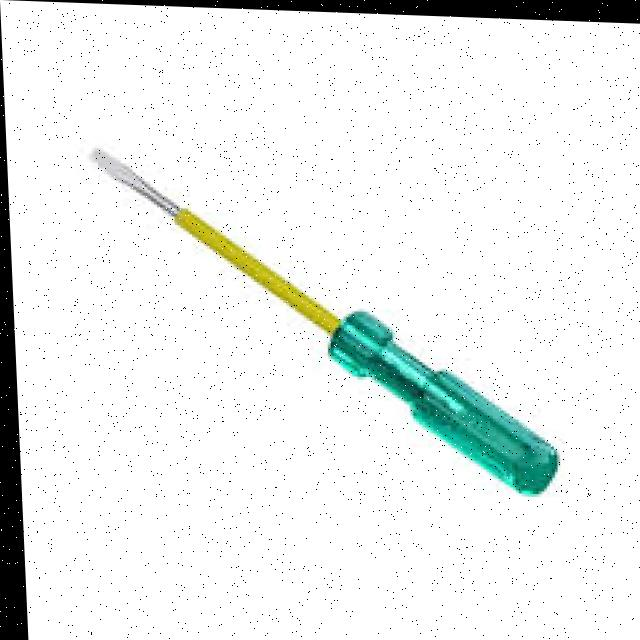Screwdriver: (91, 151, 553, 489)
